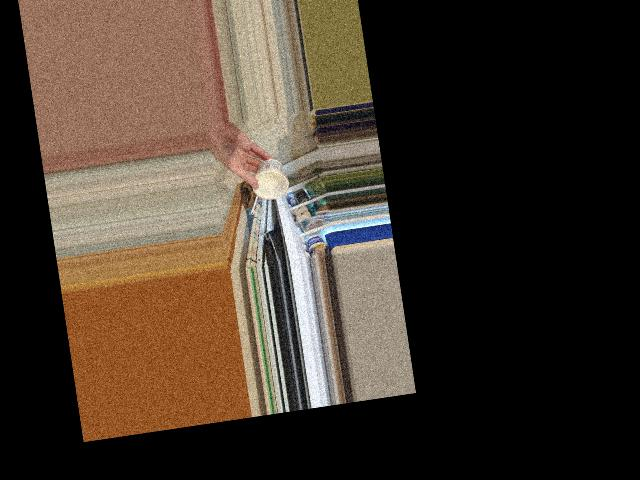cotage: (252, 157, 289, 199)
